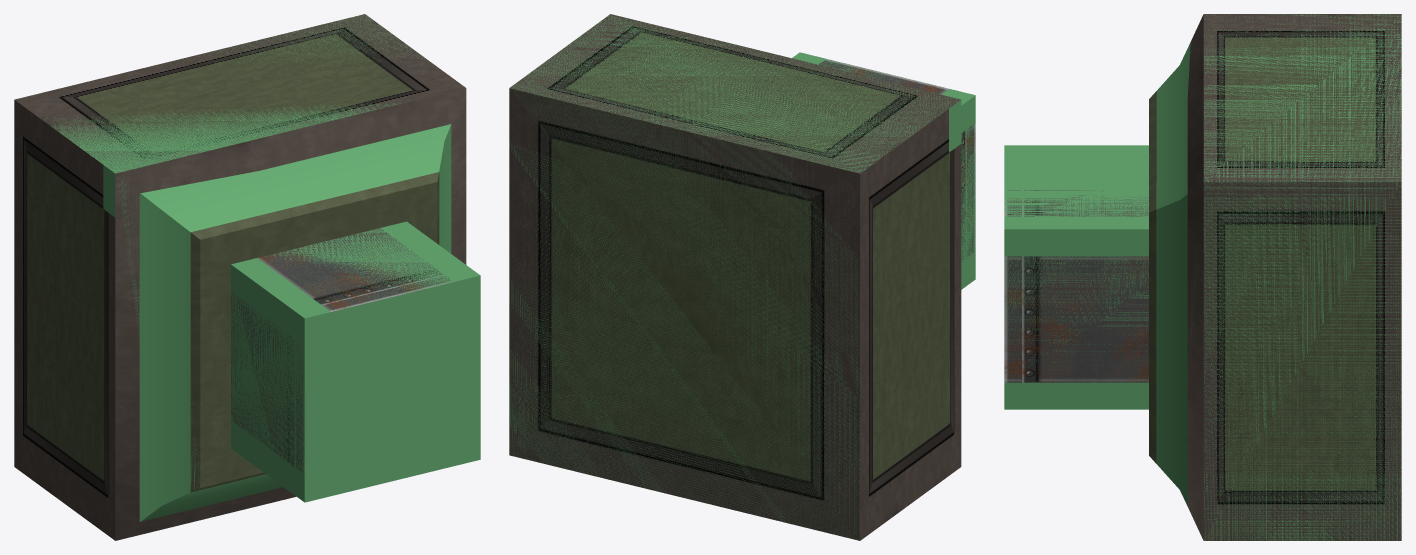
The model's file is law_stomper.fbx.
3 renders of one model, left to right at view 1: azimuth 30°, elevation 25°; view 2: azimuth 150°, elevation 25°; view 3: azimuth 270°, elevation 25°, orthographic. The views are drawn at different scales.
Parts seen in each view (by area): view 1: head, collDownFloor (×2), collDownWalls (×2), shaft, collSideWalls (×2), collUpWalls, collSideFloor; view 2: head, collUpFloor, collDownWalls (×2), shaft, collUpWalls; view 3: head, collDownWalls (×2), shaft, collDownFloor, collSideFloor, collUpWalls, collSideWalls.
Boxes of the visible parts, left/top/right/bottom form: head: left=14, top=14, right=466, bottom=540; collDownFloor (×2): left=139, top=124, right=480, bottom=521; collDownWalls (×2): left=37, top=14, right=480, bottom=501; shaft: left=231, top=228, right=453, bottom=474; collSideWalls (×2): left=117, top=177, right=472, bottom=501; collUpWalls: left=231, top=259, right=461, bottom=491; collSideFloor: left=232, top=244, right=473, bottom=314; head: left=509, top=14, right=961, bottom=540; collUpFloor: left=509, top=89, right=859, bottom=540; collDownWalls (×2): left=511, top=15, right=975, bottom=289; shaft: left=819, top=59, right=975, bottom=259; collUpWalls: left=795, top=55, right=975, bottom=280; head: left=1149, top=14, right=1401, bottom=540; collDownWalls (×2): left=1004, top=14, right=1401, bottom=540; shaft: left=1004, top=190, right=1148, bottom=382; collDownFloor: left=1156, top=42, right=1190, bottom=505; collSideFloor: left=1004, top=145, right=1148, bottom=229; collUpWalls: left=1004, top=145, right=1148, bottom=409; collSideWalls: left=1004, top=229, right=1148, bottom=409.
Bounding box in the file's own units: 1.99 × 1.99 × 2.
5 materials, 4 textured.
